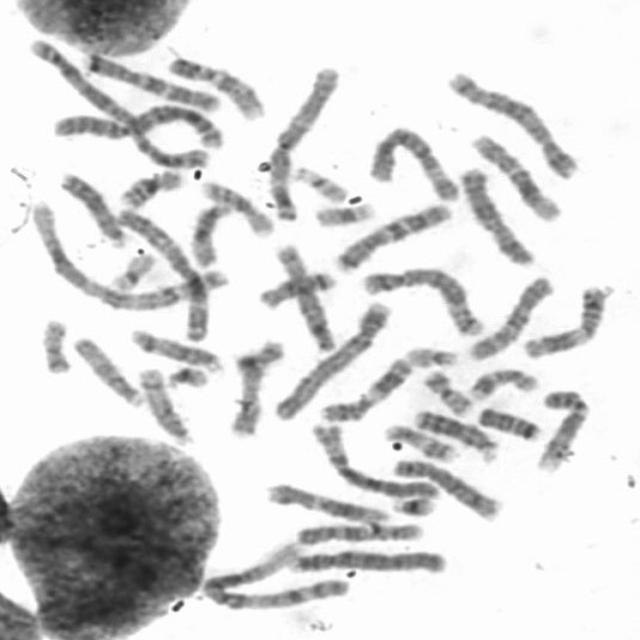A1: (22, 195, 222, 318), (198, 537, 355, 612)
A2: (19, 31, 218, 169), (48, 99, 231, 150)
A3: (112, 203, 215, 345), (261, 60, 344, 224)
B4: (269, 294, 396, 422), (282, 542, 452, 576)
B5: (441, 64, 583, 180), (355, 261, 488, 337)
C10: (463, 270, 557, 362), (290, 516, 427, 546)
C11: (518, 278, 616, 361), (313, 351, 416, 423)
C12: (466, 127, 566, 224), (261, 477, 393, 525)
C6: (304, 417, 441, 500), (362, 118, 464, 204)
C7: (78, 47, 228, 113), (328, 197, 456, 273)
C8: (268, 238, 340, 354), (386, 453, 502, 522)
C9: (161, 50, 267, 122), (533, 382, 596, 472)
D13: (54, 166, 128, 249), (409, 404, 501, 463)
D14: (134, 363, 198, 446), (125, 323, 225, 373)
D15: (68, 331, 148, 408), (184, 197, 235, 268)
E16: (194, 175, 277, 237), (113, 164, 187, 210)
E17: (379, 418, 460, 464), (464, 362, 542, 402)
E18: (253, 265, 338, 311), (472, 401, 544, 442)
F19: (104, 246, 160, 293), (309, 196, 379, 228)
F20: (418, 364, 477, 417), (35, 313, 74, 376)
G21: (160, 360, 212, 390), (385, 491, 440, 518)
G22: (286, 160, 350, 204), (401, 340, 462, 369)
X: (454, 161, 540, 267), (224, 335, 288, 439)
